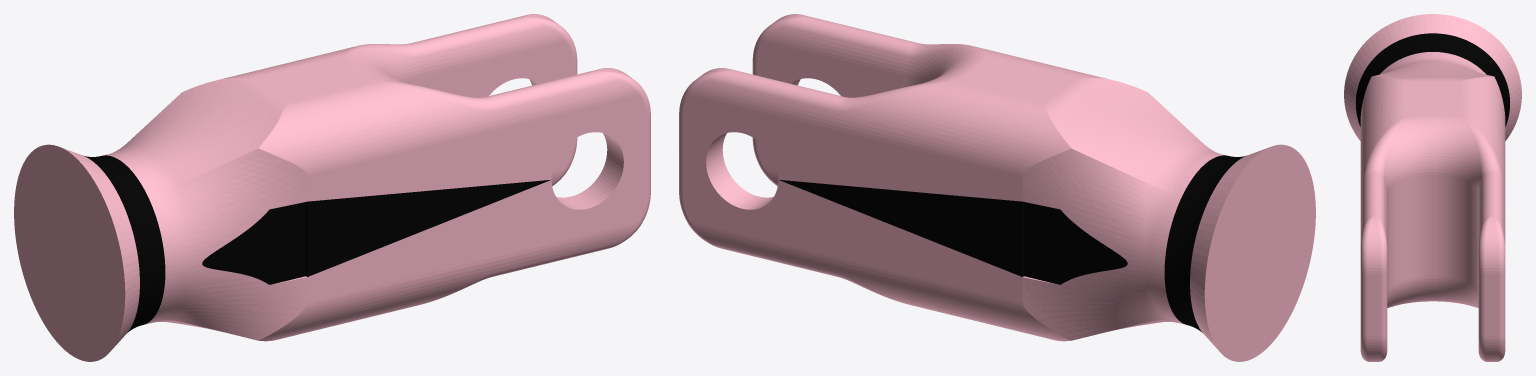
File: Astorino Robot Joint 4.dae
3 renders of one model, left to right at view 1: azimuth 30°, elevation 25°; view 2: azimuth 150°, elevation 25°; view 3: azimuth 270°, elevation 25°, orthographic. The views are drawn at different scales.
Visible parts, largest first — view 1: Astorino Robot Joint 4; view 2: Astorino Robot Joint 4; view 3: Astorino Robot Joint 4.
Boxes of the visible parts, x1=… form: Astorino Robot Joint 4: x1=14, y1=14, x2=650, y2=361; Astorino Robot Joint 4: x1=679, y1=14, x2=1315, y2=361; Astorino Robot Joint 4: x1=1344, y1=14, x2=1521, y2=361.
Size of the model in its own units: 0.224 by 0.0799 by 0.09.
